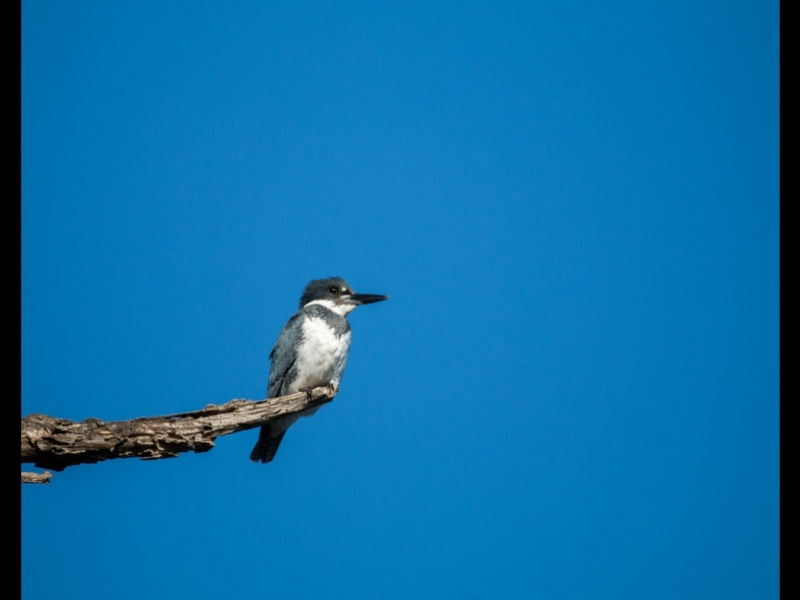kingfisher: (241, 273, 391, 478)
